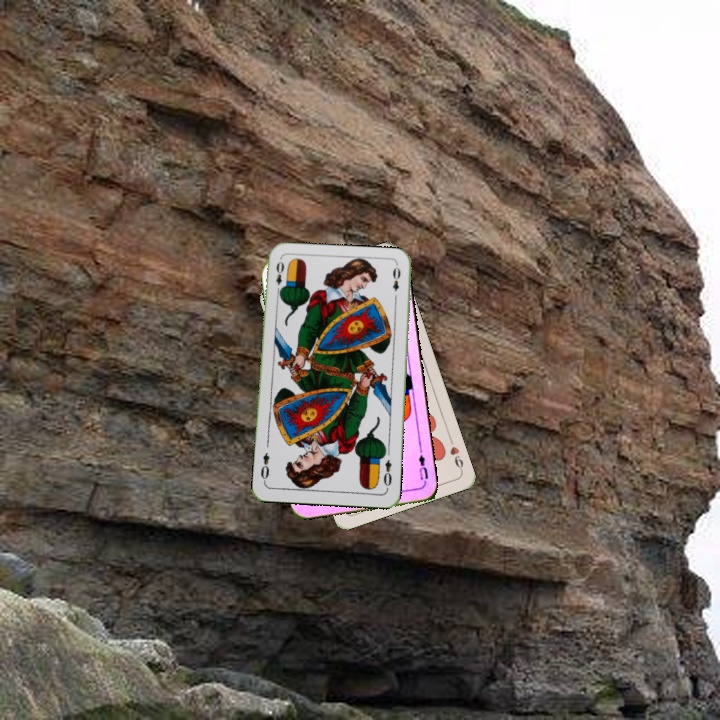EO: (272, 257, 286, 297), (379, 456, 394, 492)
EU: (415, 446, 430, 482)
H9: (445, 434, 466, 474)
